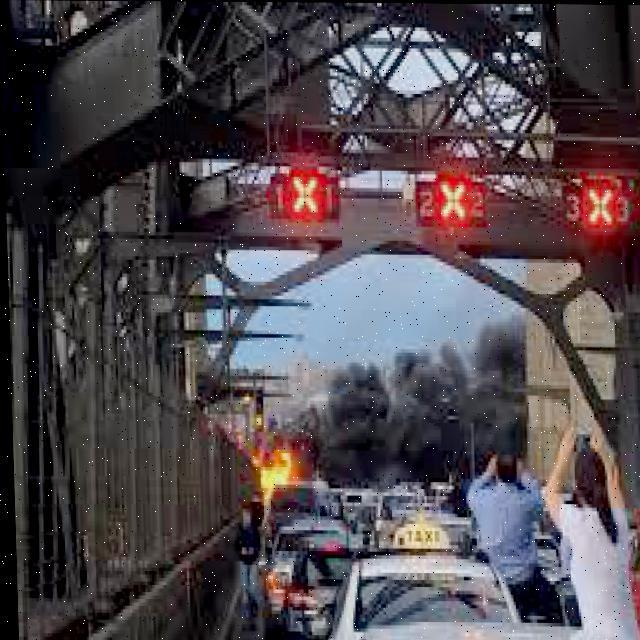Fire: (215, 407, 316, 512)
